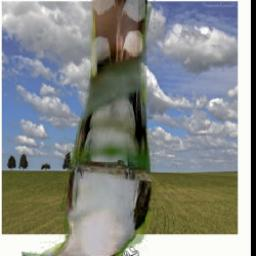Cuckoo: (20, 0, 155, 256)
